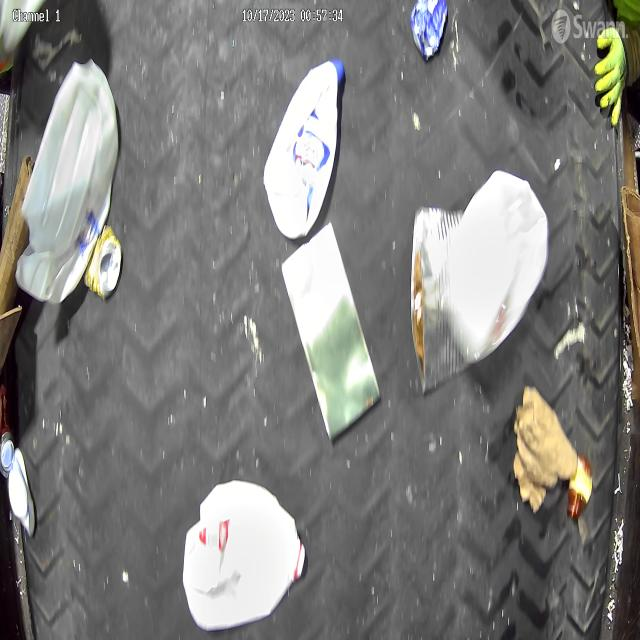can: (411, 205, 464, 393), (86, 224, 122, 302), (0, 386, 14, 476)
milk_jug: (15, 58, 118, 301), (183, 480, 309, 630), (448, 168, 549, 350), (262, 57, 346, 240)
